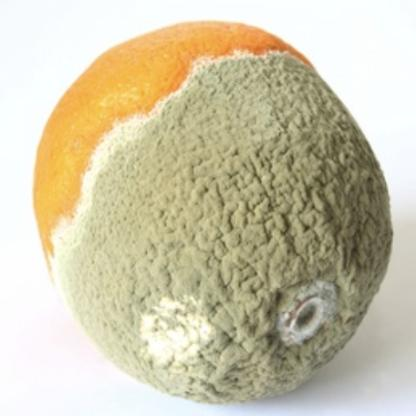rotten: (32, 20, 397, 408)
